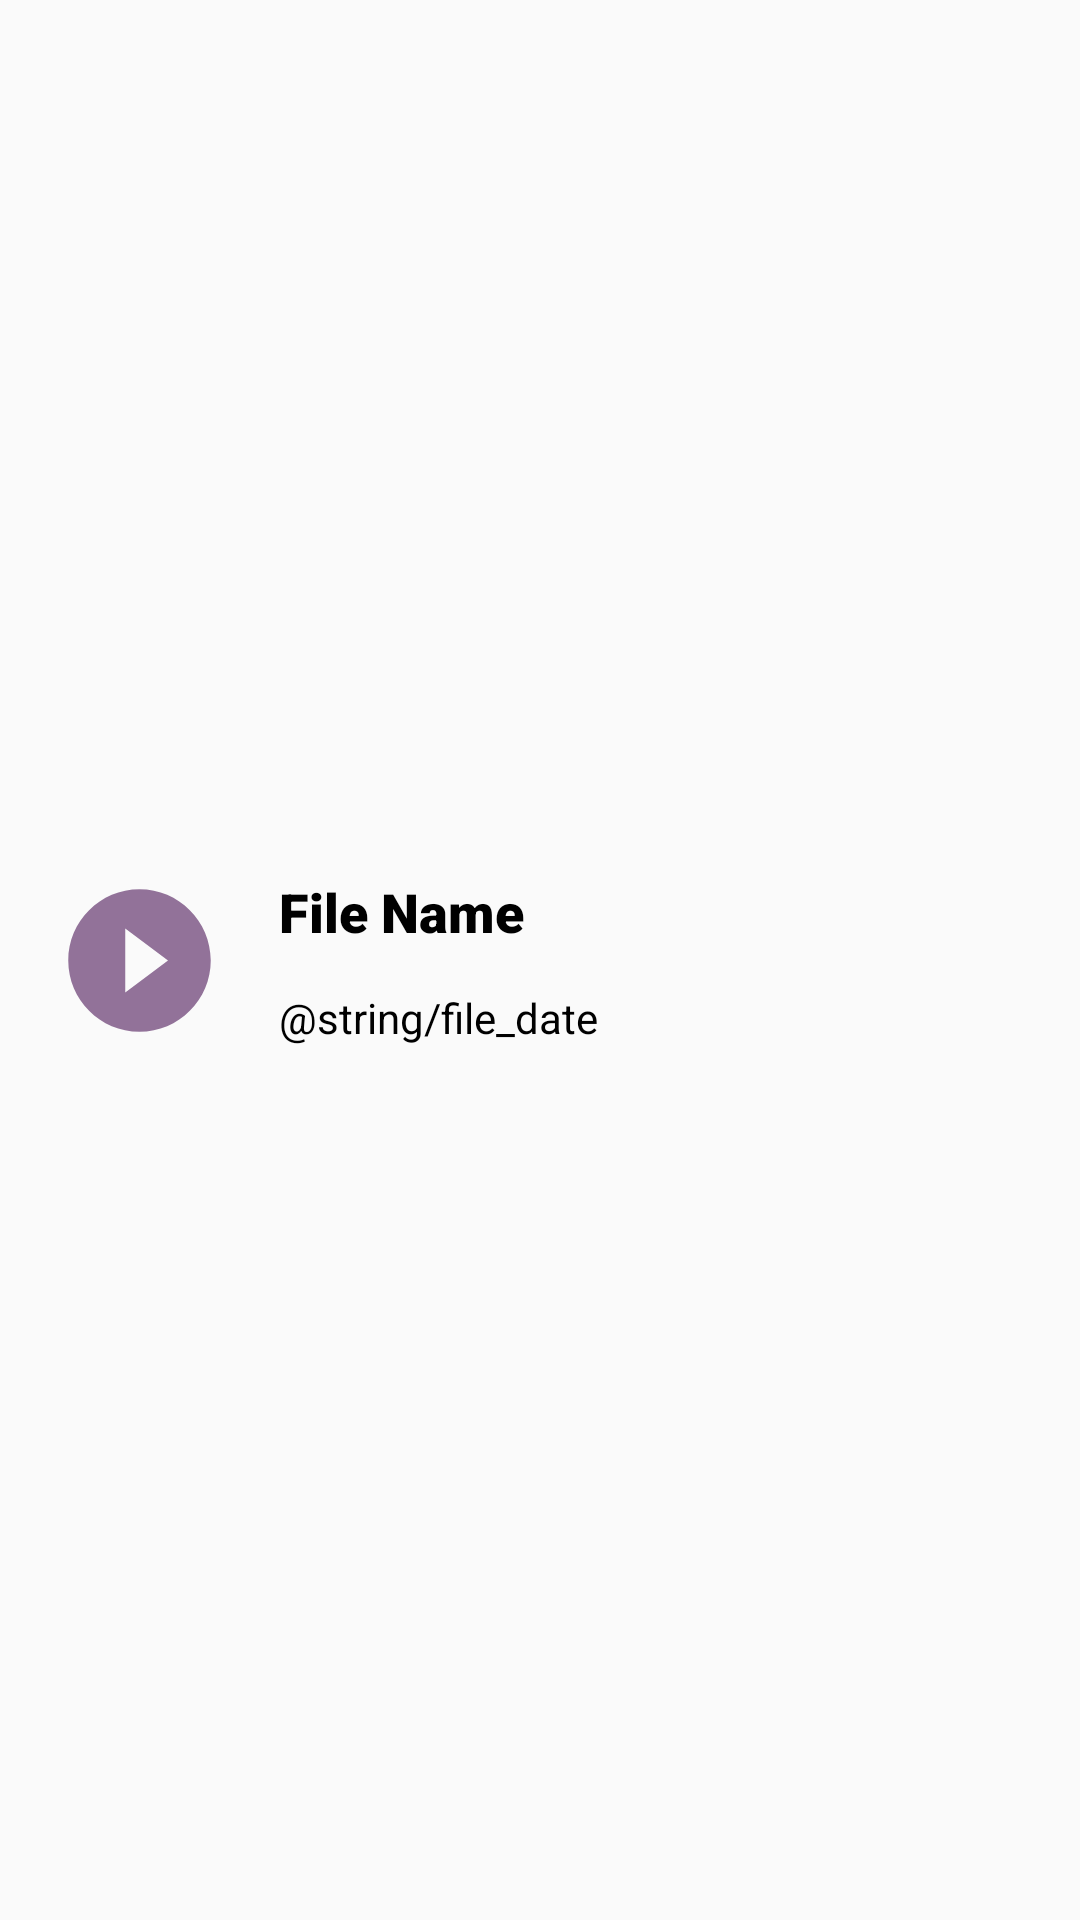

Icon click points for this 1080 x 1920 phone screenshot, format (x,y):
play circle: (139,960)
